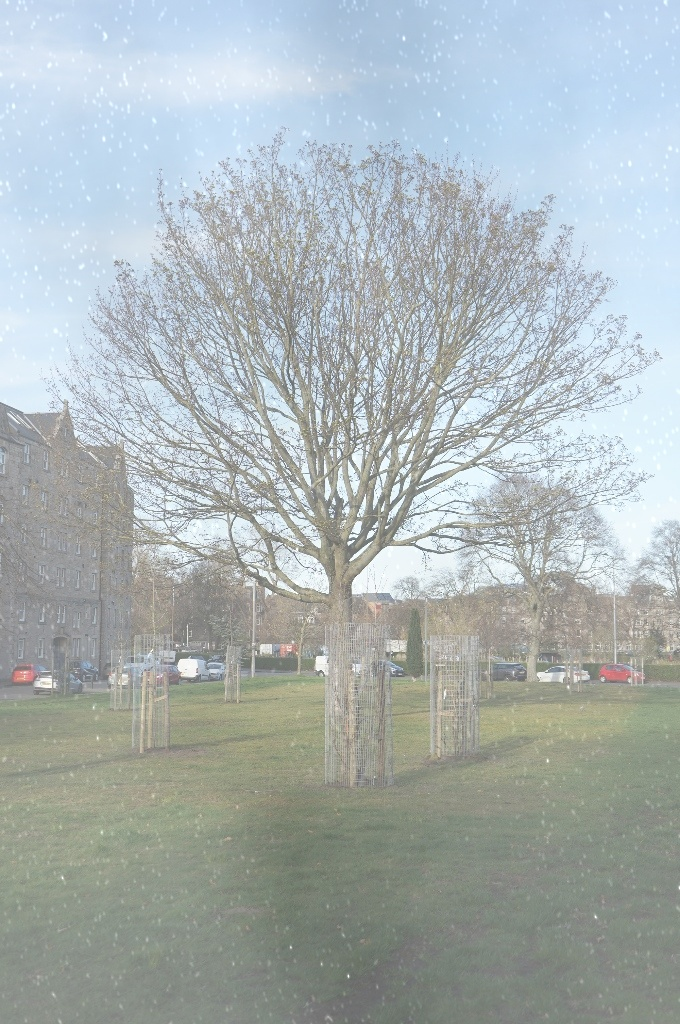Tree: (39, 106, 622, 808), (423, 454, 630, 707), (637, 517, 679, 682)
